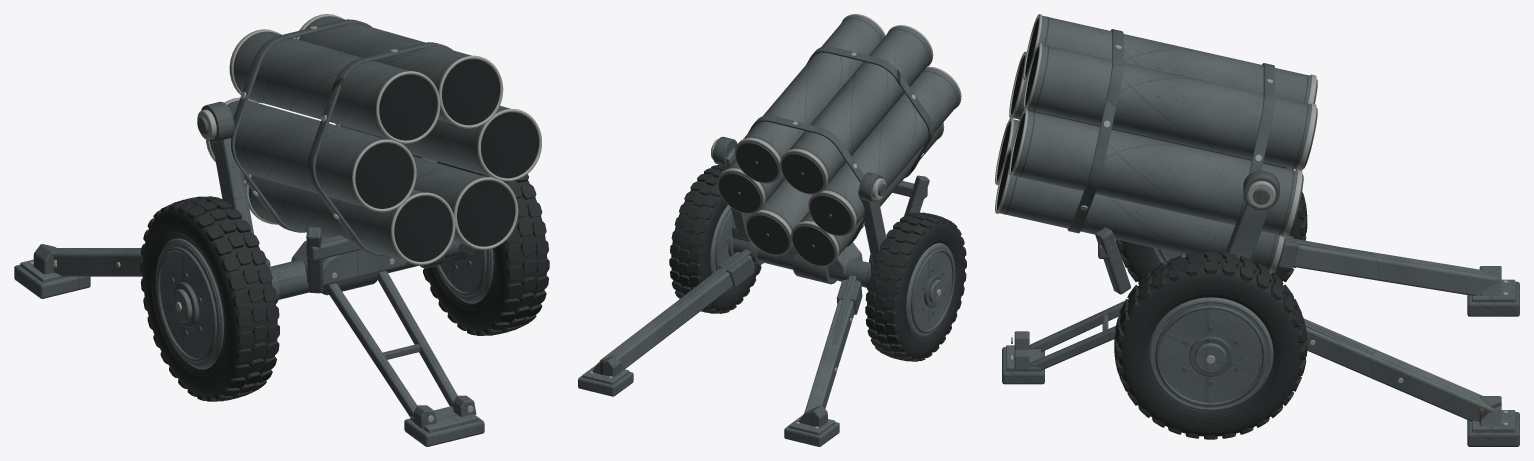
Rendered from default-static.glb.
The picture shows the model from 3 angles, left to right: view 1: azimuth 30°, elevation 25°; view 2: azimuth 150°, elevation 25°; view 3: azimuth 270°, elevation 25°; orthographic projection. The views are drawn at different scales.
Parts seen in each view (by area): view 1: N41_Solid_Tube_3, N41_Solid_Tube_4, N41_Wheel_Carcass_-1, N41_Solid_Tube_5, N41_Solid_Tube_2, N41_Solid_Tube_1, N41_Solid_Tube_6, N41_Wheel_Carcass_1, N41_Wheel_Disc_-1_-1, N41_Trail_Beam_-1, N41_Exterior_Bundle_Band_1, N41_Exterior_Bundle_Band_2 (+22 smaller); view 2: N41_Solid_Tube_3, N41_Solid_Tube_4, N41_Solid_Tube_2, N41_Wheel_Carcass_-1, N41_Trail_Beam_1, N41_Wheel_Carcass_1, N41_Wheel_Disc_-1_-1, N41_Trail_Beam_-1, N41_Exterior_Bundle_Band_1, N41_Solid_Tube_6, N41_Shallow_Dark_End_1_1, N41_Shallow_Dark_End_3_1 (+31 smaller); view 3: N41_Solid_Tube_2, N41_Solid_Tube_1, N41_Wheel_Carcass_1, N41_Solid_Tube_6, N41_Solid_Tube_3, N41_Wheel_Disc_1_1, N41_Trail_Beam_1, N41_Trail_Beam_-1, N41_Exterior_Bundle_Band_1, N41_Rolled_Rim_Lip_1_1, N41_Inner_Disc_Recess_1_1, N41_Exterior_Bundle_Band_2 (+15 smaller).
Part boxes in pixels (x1=…): N41_Solid_Tube_3: x1=233, y1=31, x2=437, y2=140; N41_Solid_Tube_4: x1=210, y1=100, x2=413, y2=208; N41_Wheel_Carcass_-1: x1=142, y1=203, x2=277, y2=398; N41_Solid_Tube_5: x1=248, y1=175, x2=452, y2=261; N41_Solid_Tube_2: x1=299, y1=16, x2=499, y2=125; N41_Solid_Tube_1: x1=340, y1=105, x2=538, y2=178; N41_Solid_Tube_6: x1=412, y1=156, x2=515, y2=246; N41_Wheel_Carcass_1: x1=424, y1=161, x2=547, y2=332; N41_Wheel_Disc_-1_-1: x1=156, y1=241, x2=220, y2=366; N41_Trail_Beam_-1: x1=54, y1=248, x2=142, y2=276; N41_Exterior_Bundle_Band_1: x1=307, y1=42, x2=490, y2=255; N41_Exterior_Bundle_Band_2: x1=230, y1=19, x2=371, y2=232; N41_Solid_Tube_3: x1=789, y1=27, x2=931, y2=182; N41_Solid_Tube_4: x1=824, y1=68, x2=959, y2=224; N41_Solid_Tube_2: x1=743, y1=15, x2=884, y2=158; N41_Wheel_Carcass_-1: x1=867, y1=217, x2=965, y2=359; N41_Trail_Beam_1: x1=599, y1=252, x2=754, y2=370; N41_Wheel_Carcass_1: x1=671, y1=169, x2=760, y2=311; N41_Wheel_Disc_-1_-1: x1=908, y1=245, x2=955, y2=336; N41_Trail_Beam_-1: x1=804, y1=279, x2=858, y2=412; N41_Exterior_Bundle_Band_1: x1=806, y1=46, x2=934, y2=177; N41_Solid_Tube_6: x1=761, y1=179, x2=812, y2=230; N41_Shallow_Dark_End_1_1: x1=718, y1=172, x2=761, y2=212; N41_Shallow_Dark_End_3_1: x1=781, y1=153, x2=824, y2=193; N41_Solid_Tube_2: x1=1025, y1=44, x2=1310, y2=169; N41_Solid_Tube_1: x1=1011, y1=110, x2=1296, y2=235; N41_Wheel_Carcass_1: x1=1118, y1=254, x2=1303, y2=436; N41_Solid_Tube_6: x1=997, y1=150, x2=1279, y2=270; N41_Solid_Tube_3: x1=1025, y1=15, x2=1310, y2=103; N41_Wheel_Disc_1_1: x1=1152, y1=303, x2=1268, y2=408; N41_Trail_Beam_1: x1=1304, y1=318, x2=1493, y2=421; N41_Trail_Beam_-1: x1=1293, y1=244, x2=1498, y2=295; N41_Exterior_Bundle_Band_1: x1=1067, y1=29, x2=1123, y2=233; N41_Rolled_Rim_Lip_1_1: x1=1148, y1=297, x2=1273, y2=411; N41_Inner_Disc_Recess_1_1: x1=1155, y1=305, x2=1266, y2=406; N41_Exterior_Bundle_Band_2: x1=1225, y1=63, x2=1274, y2=252.
Bounding box in the file's own units: 1.86 × 1.92 × 2.69.
12 materials, 9 textured.
